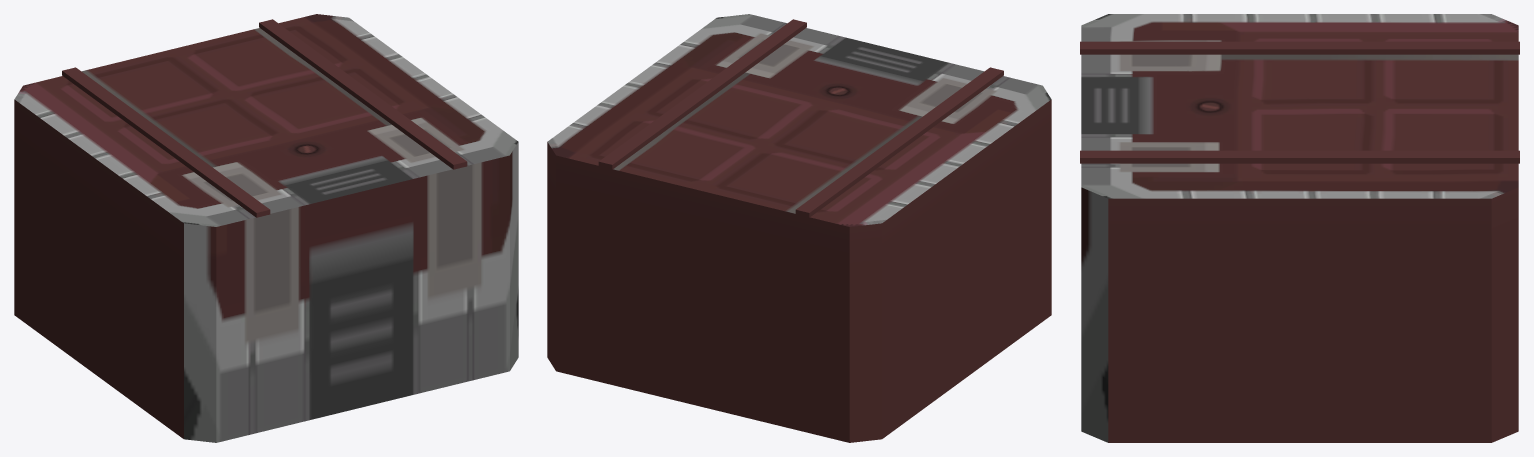
The model's file is Building_LargeChemfuelTank.obj.
The picture shows the model from 3 angles, left to right: view 1: azimuth 30°, elevation 25°; view 2: azimuth 150°, elevation 25°; view 3: azimuth 270°, elevation 25°; orthographic projection. The views are drawn at different scales.
Visible parts, largest first — view 1: Body; view 2: Body; view 3: Body.
Boxes of the visible parts, box(x1,y1,x2,y2) form: Body: box(14, 14, 518, 442); Body: box(547, 14, 1051, 442); Body: box(1080, 14, 1519, 442).
Size of the model in its own units: 2.92 by 1.84 by 2.94.
Materials: 1 (1 with a texture image).
